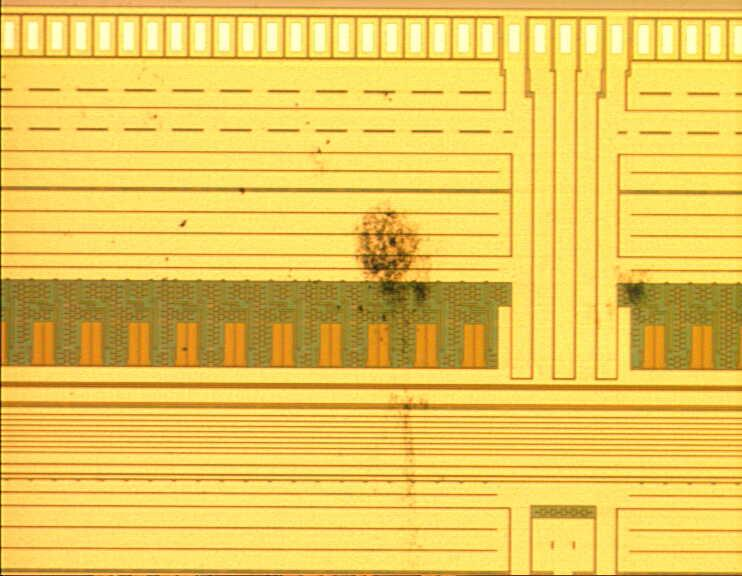PO CONTAMINATION: (145, 88, 664, 574)
